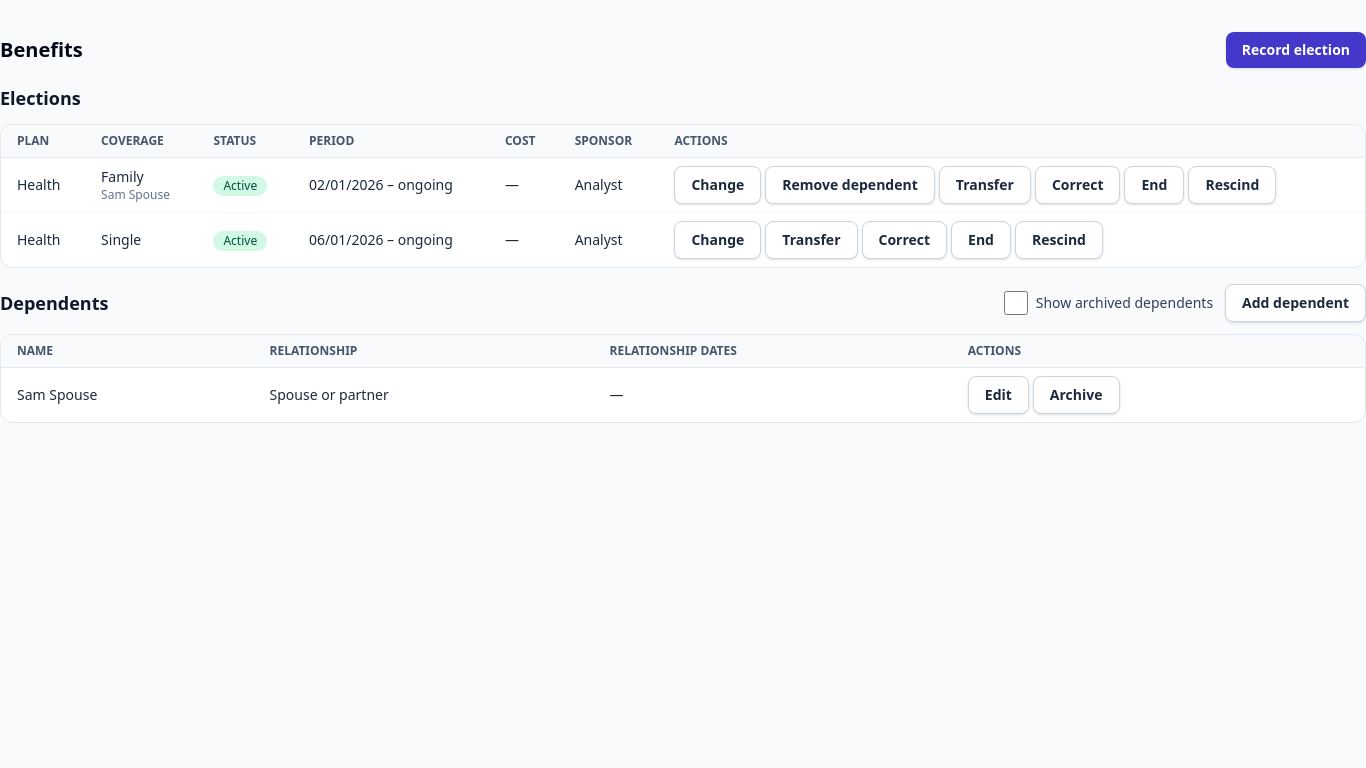
Scenario: EmployeeBenefitsSection (Batch 7C) › explains later coverage instead of ending anything silently
The image size is (1366, 768).
Click the button with aria-label "End Health coverage" at (1154, 185), box [1124,166,1184,204]
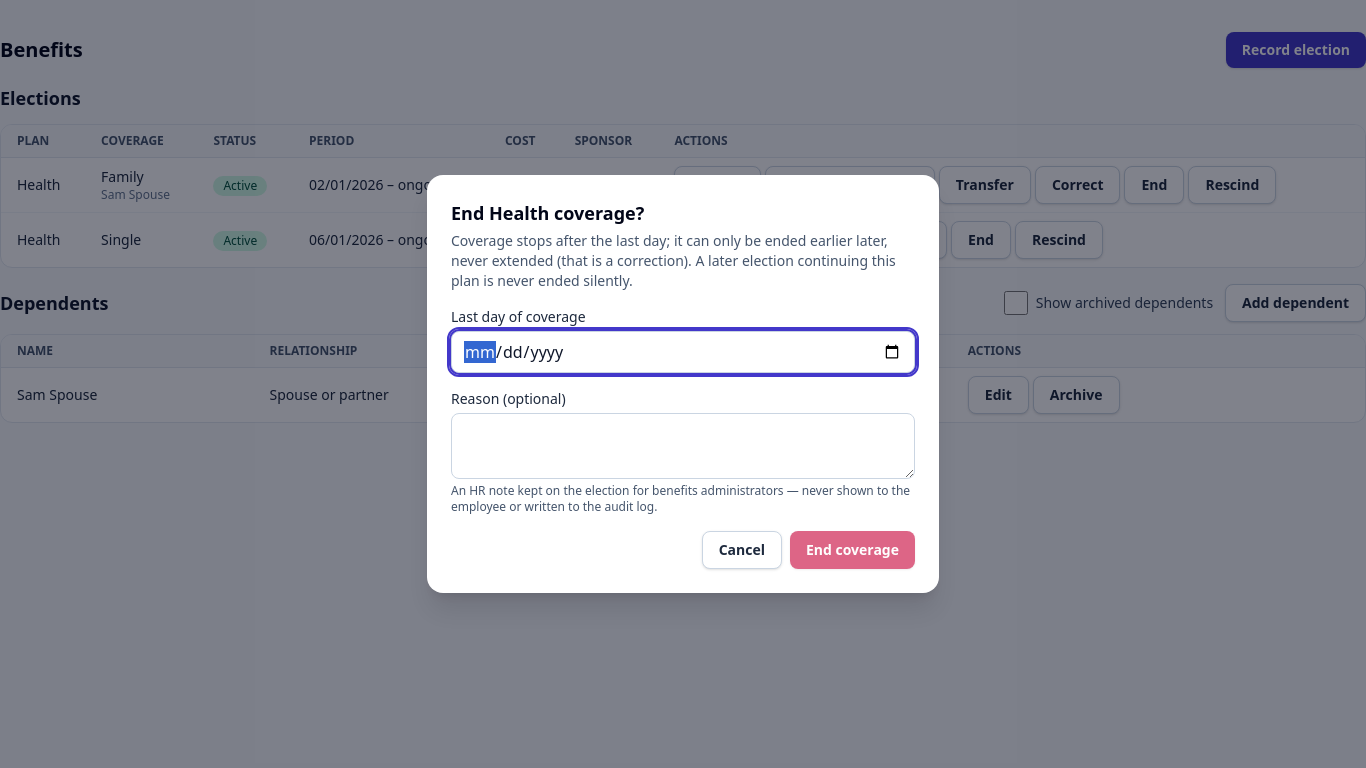
Type "2026-04-30" into the date field labelled "Last day of coverage" at (683, 352), box [451,331,915,373]
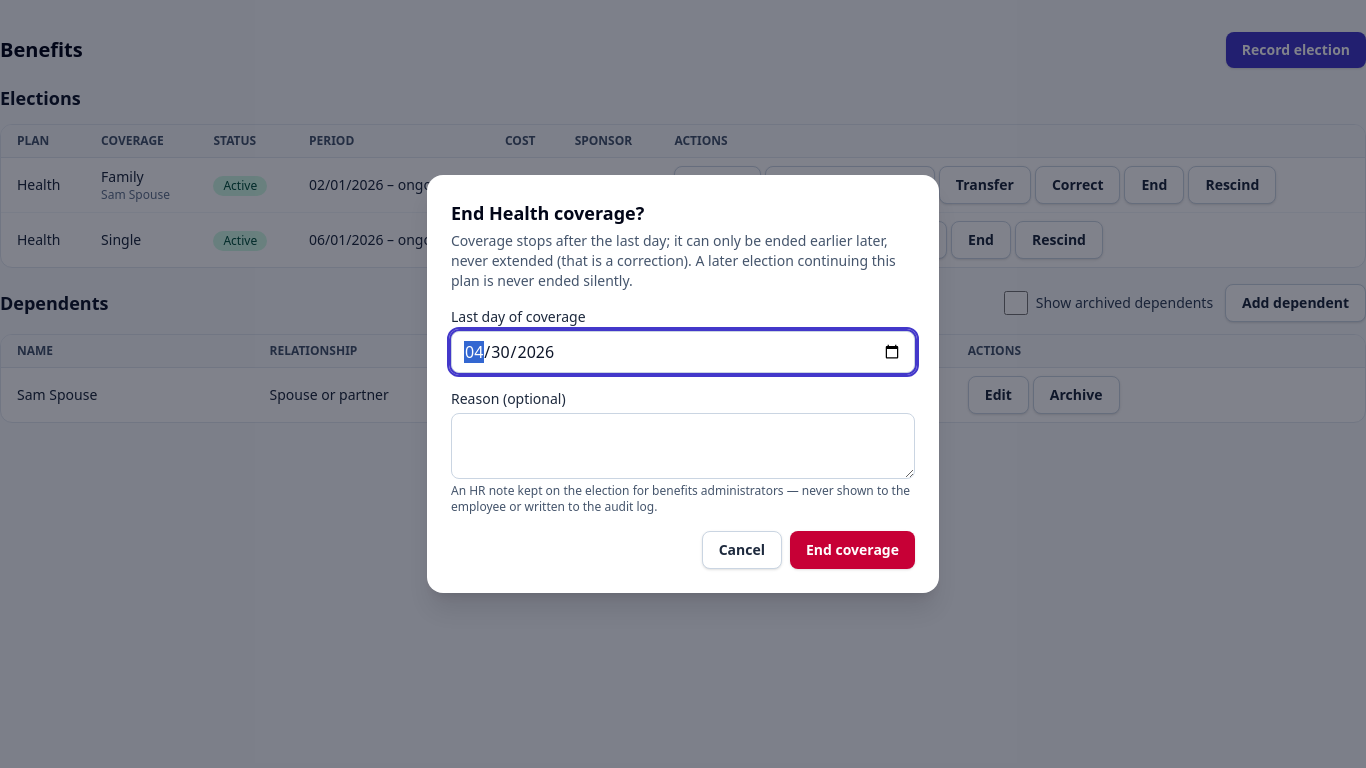
Type "Divorce" into the text box labelled "Reason (optional)" at (683, 446), box [451,413,915,479]
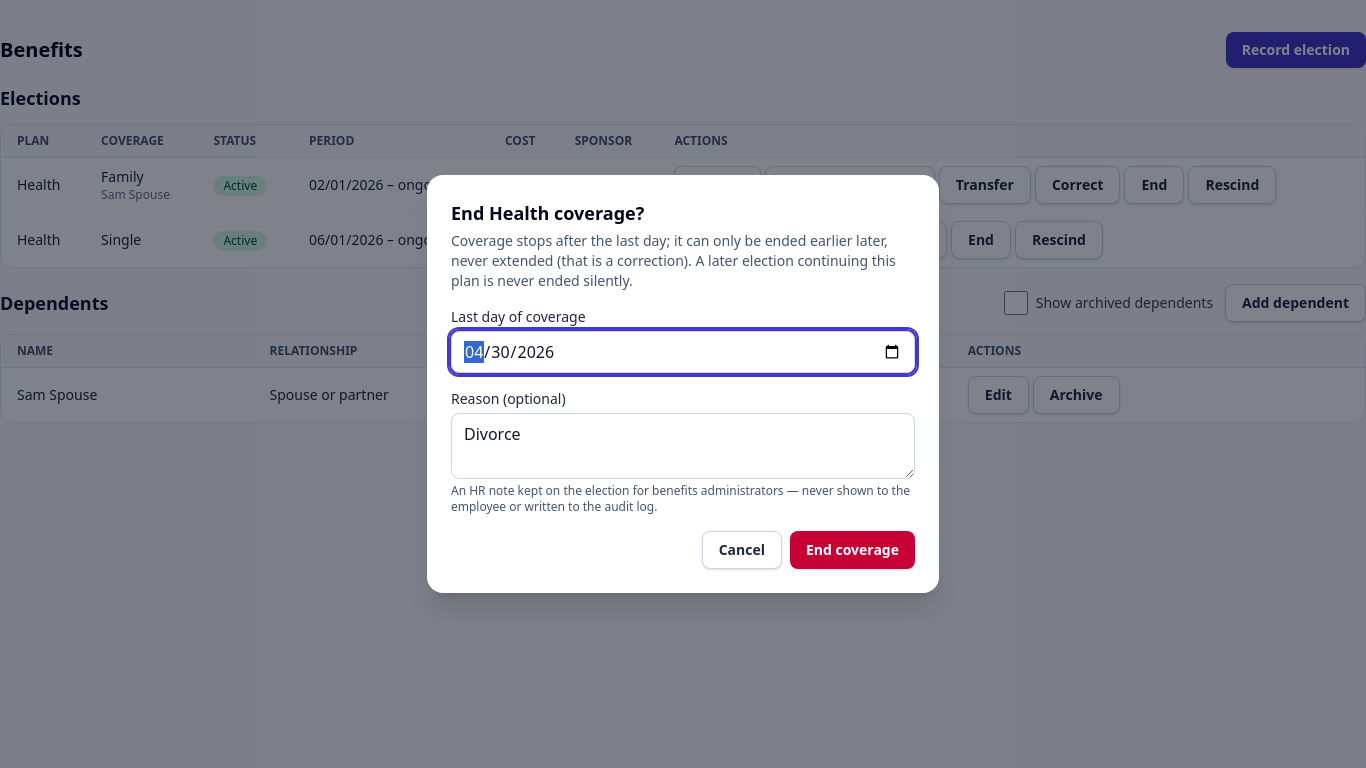
Click the button "End coverage" at (852, 550), box [790,531,915,569]
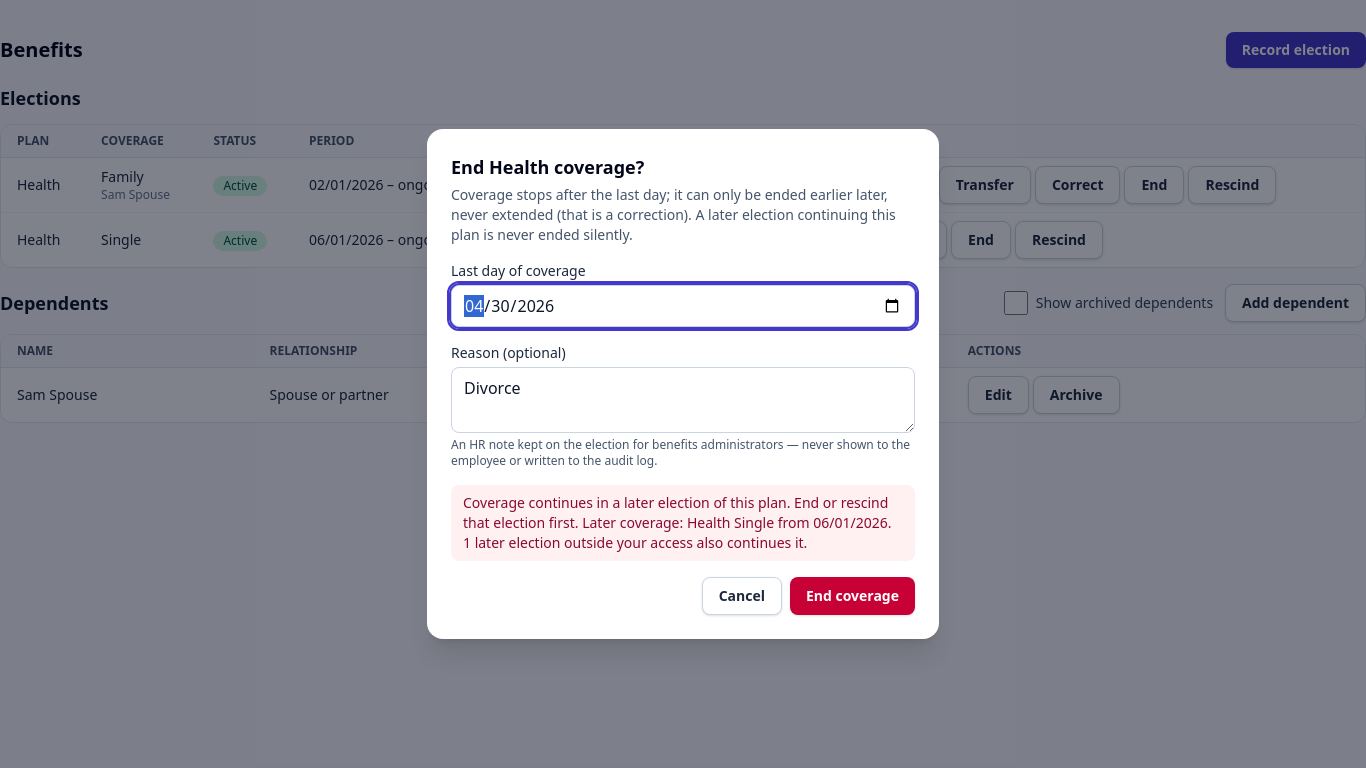
expect the message shows "later election": met, box [463,493,892,552]
expect the message shows "Later coverage: Health Single from": met, box [463,493,892,552]
expect the message shows "1 later election outside your access": met, box [463,493,892,552]
